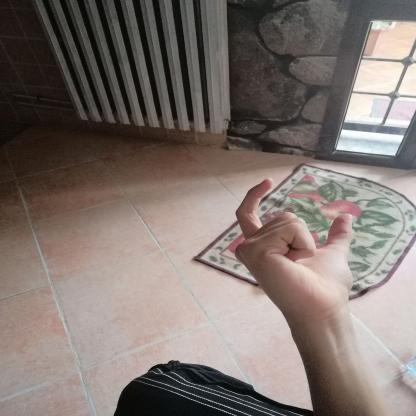NOON: (215, 173, 368, 325)
